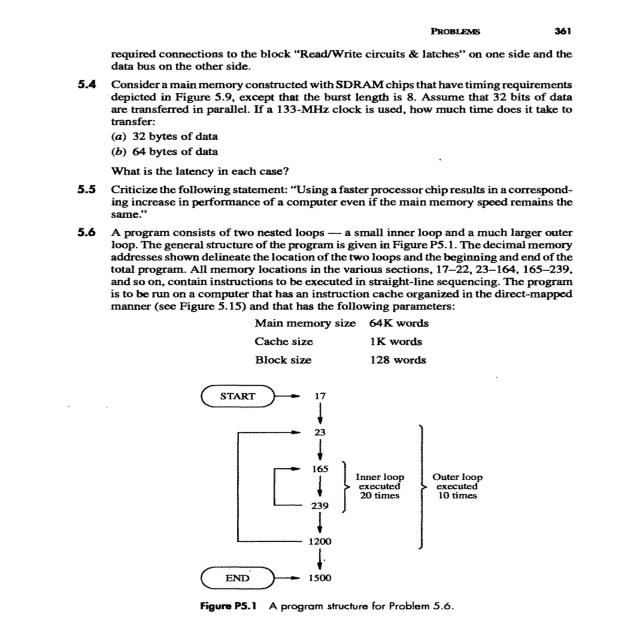diagram: (108, 315, 564, 637)
